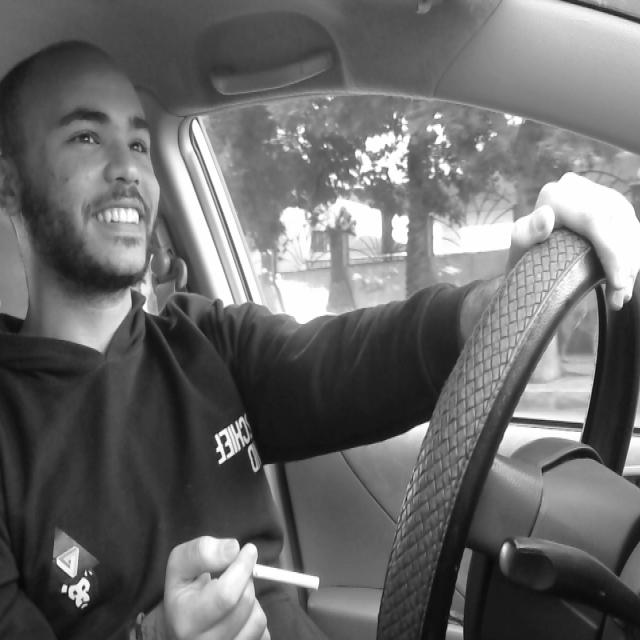smoking: (216, 550, 326, 592)
